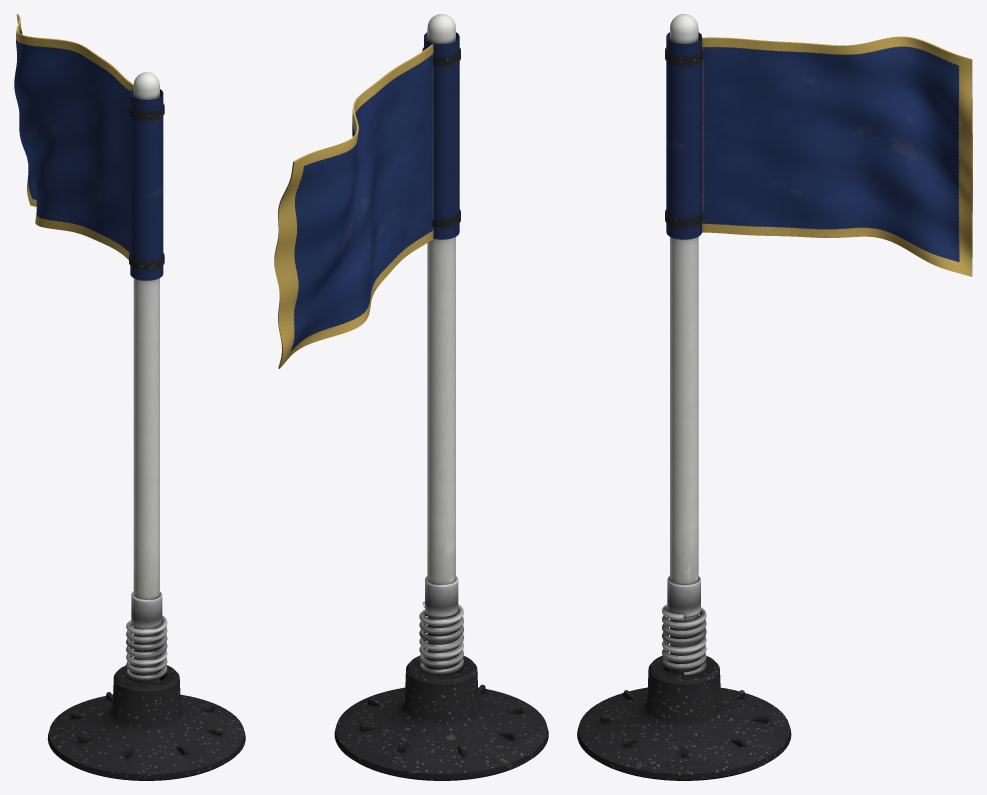
Rendered from tiro_esquina.obj.
3 renders of one model, left to right at view 1: azimuth 30°, elevation 25°; view 2: azimuth 150°, elevation 25°; view 3: azimuth 270°, elevation 25°, orthographic. The views are drawn at different scales.
Visible parts, largest first — view 1: banderin, base_hule, poste_pvc, manga_banderin, resorte, casquillo_acero, argollas, base_nervaduras, nucleo_resorte; view 2: banderin, base_hule, poste_pvc, manga_banderin, resorte, casquillo_acero, base_nervaduras, argollas, nucleo_resorte; view 3: banderin, base_hule, poste_pvc, manga_banderin, resorte, casquillo_acero, argollas.
Part boxes in pixels (<box>): banderin: <box>14,14,133,259</box>; base_hule: <box>47,664,245,780</box>; poste_pvc: <box>133,72,159,599</box>; manga_banderin: <box>130,89,163,280</box>; resorte: <box>126,615,167,681</box>; casquillo_acero: <box>131,591,162,629</box>; argollas: <box>129,103,164,269</box>; base_nervaduras: <box>70,692,222,757</box>; nucleo_resorte: <box>133,627,159,682</box>; banderin: <box>274,44,433,368</box>; base_hule: <box>334,655,548,780</box>; poste_pvc: <box>427,14,455,584</box>; manga_banderin: <box>424,32,459,239</box>; resorte: <box>419,601,463,675</box>; casquillo_acero: <box>425,576,458,617</box>; base_nervaduras: <box>359,684,523,755</box>; argollas: <box>422,47,460,227</box>; nucleo_resorte: <box>427,614,455,673</box>; banderin: <box>702,36,972,276</box>; base_hule: <box>577,655,791,780</box>; poste_pvc: <box>670,14,698,584</box>; manga_banderin: <box>666,32,701,239</box>; resorte: <box>661,604,706,675</box>; casquillo_acero: <box>667,576,700,617</box>; argollas: <box>665,47,703,227</box>.
Size of the model in its own units: 3 by 11.15 by 5.54.
Materials: 2 (2 with a texture image).
